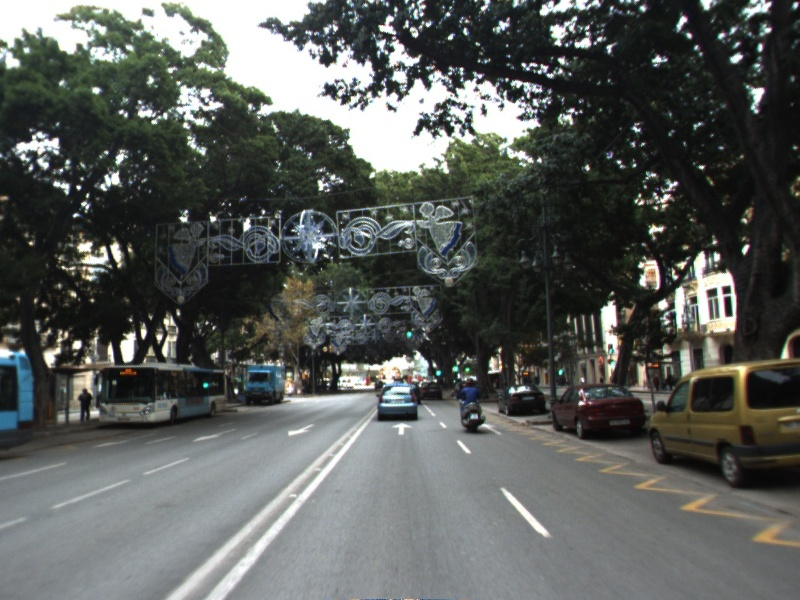STRAIGHT: (477, 422, 505, 437), (390, 421, 414, 436)
